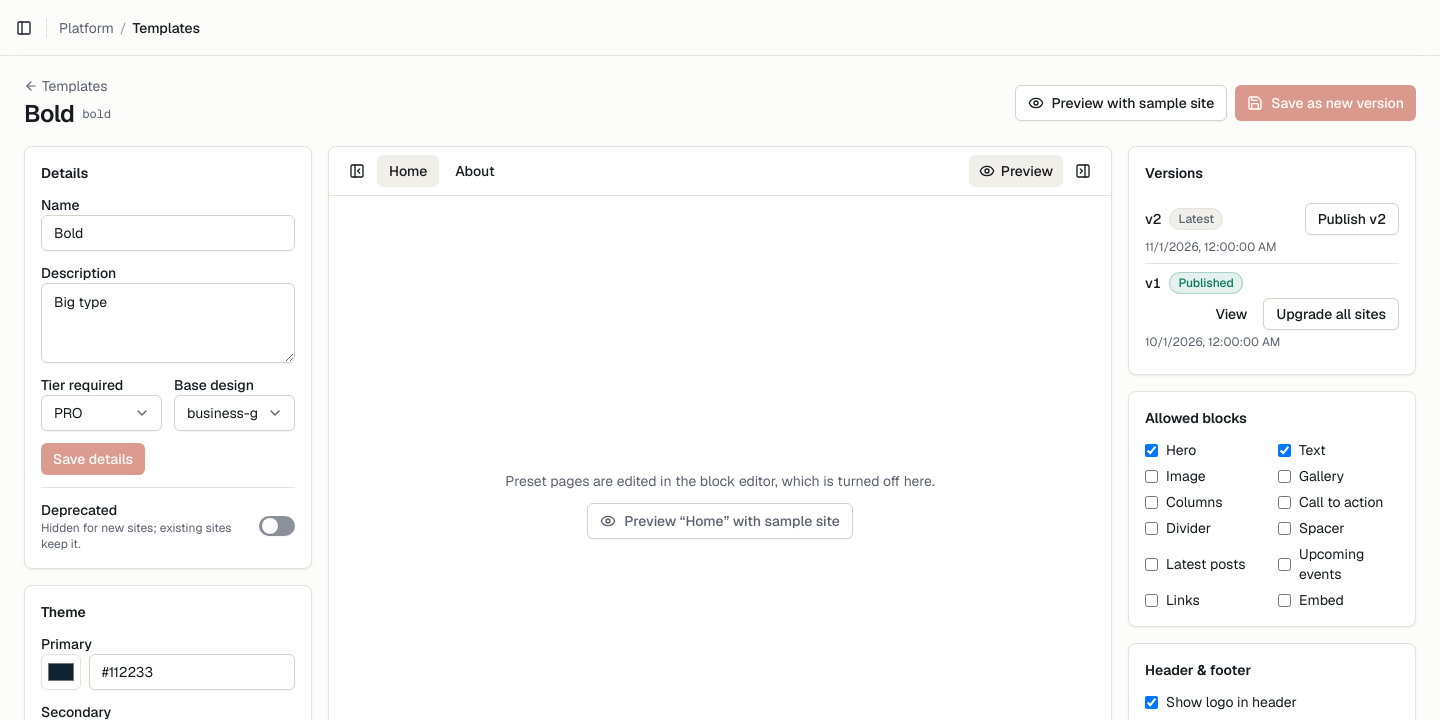
Test: template editor › blocks saving invalid tokens and shows where
Replace the text in the field labelled "Primary" with "blue" at {"x": 192, "y": 672}, box [89, 654, 295, 690]
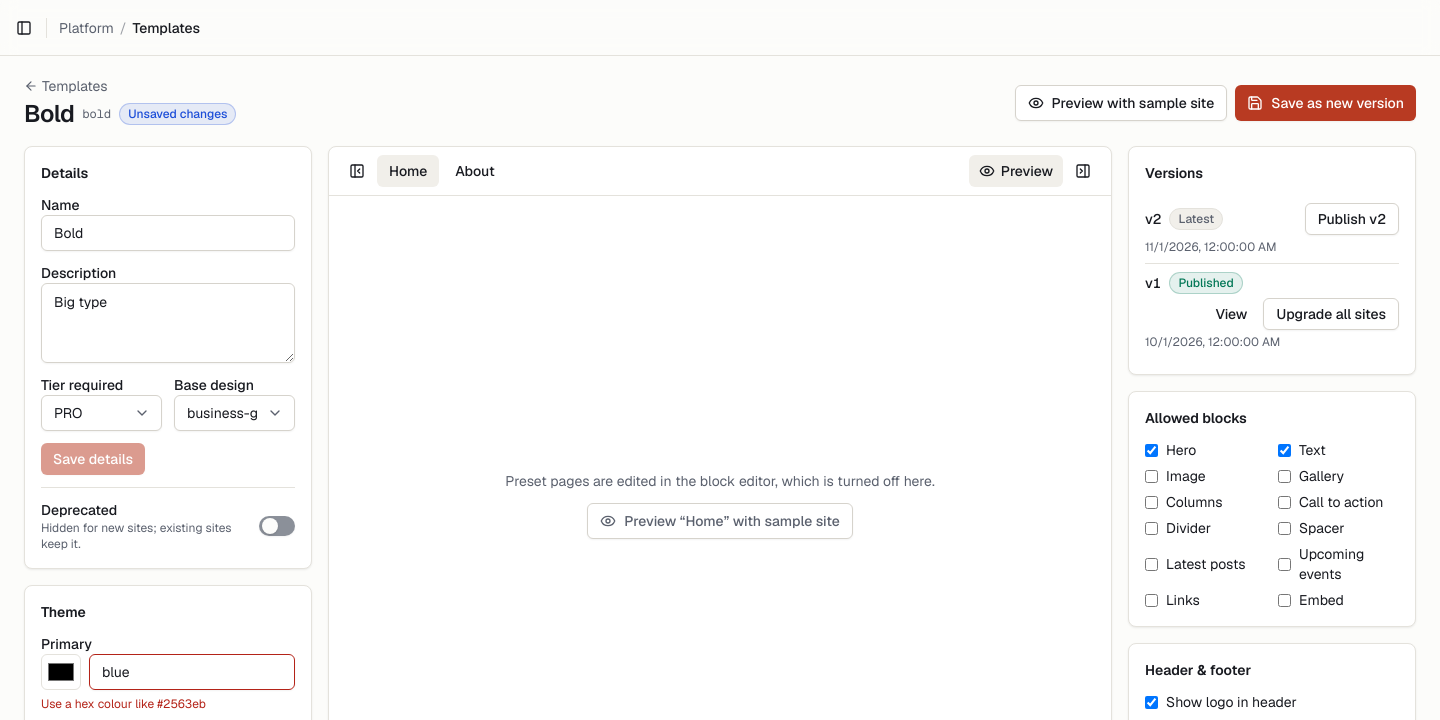
Now the text "Use a hex colour like #2563eb" is shown, box [41, 696, 206, 712]
Click the button "Save as new version" at {"x": 1326, "y": 103}, box [1235, 85, 1416, 121]
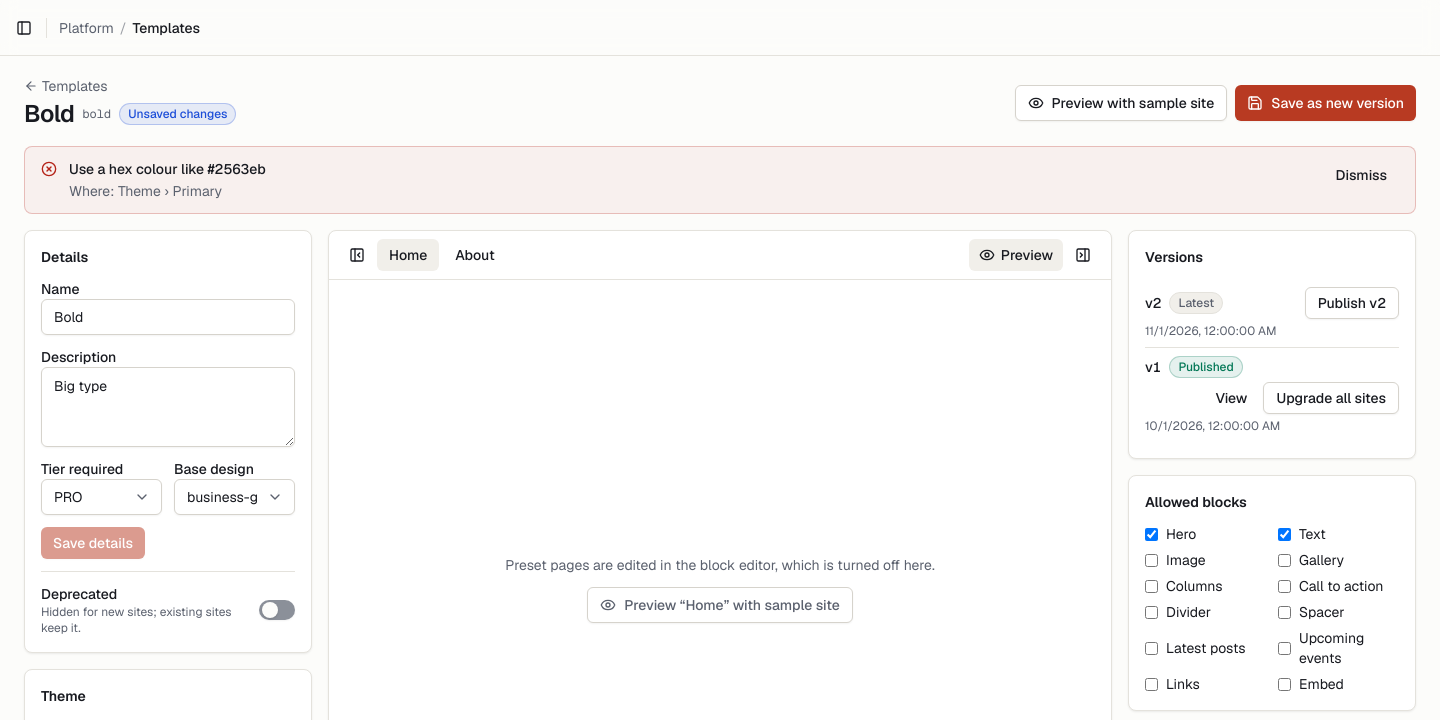
Now the text "Where: Theme › Primary" is shown, box [69, 182, 222, 200]
